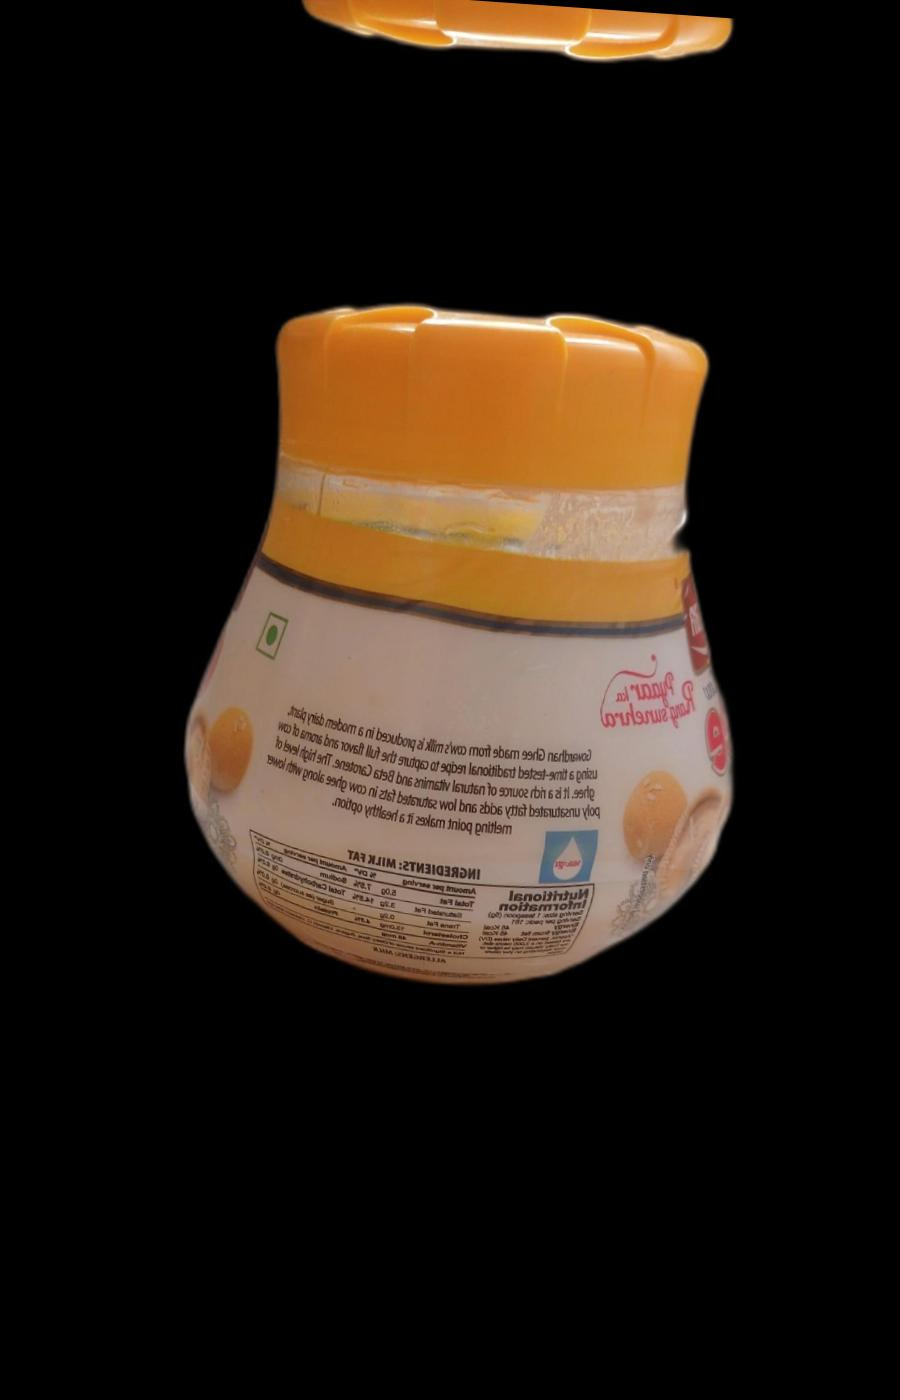Govardhan Pure cow Ghee -1kg-: (164, 291, 766, 1005)
